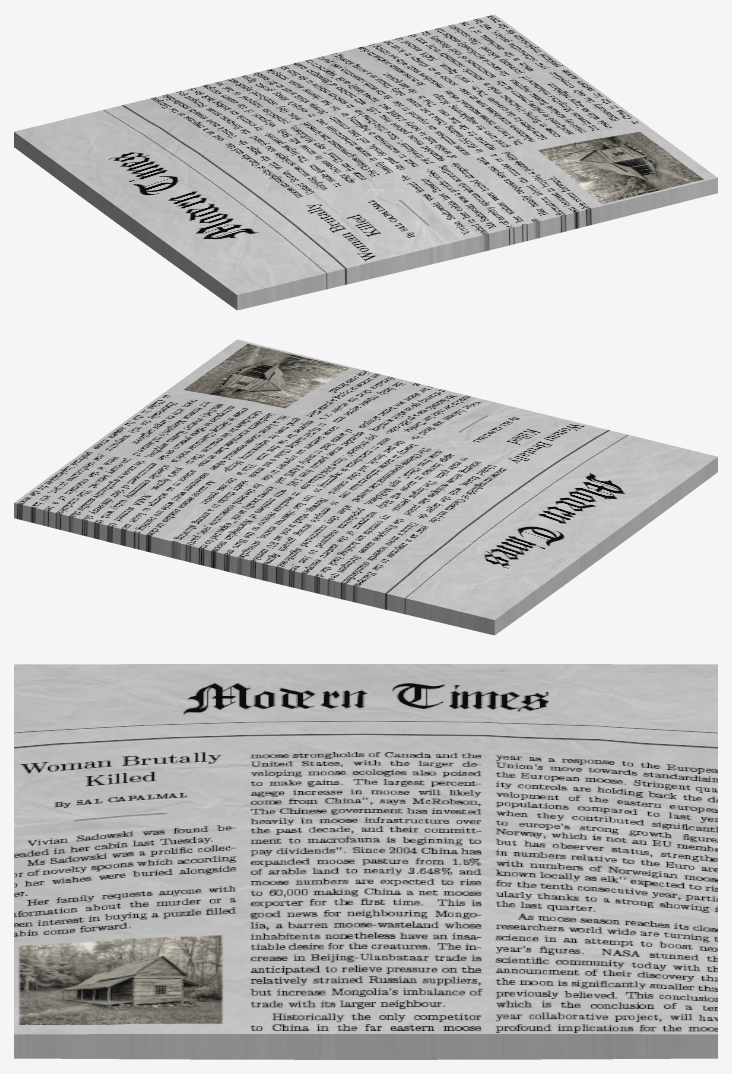
The model's file is newspaper.obj.
3 renders of one model, top to bottom at view 1: azimuth 30°, elevation 25°; view 2: azimuth 150°, elevation 25°; view 3: azimuth 270°, elevation 25°, orthographic. The views are drawn at different scales.
Visible parts, largest first — view 1: pCube1; view 2: pCube1; view 3: pCube1.
Boxes of the visible parts, x1=… form: pCube1: x1=14, y1=14, x2=717, y2=310; pCube1: x1=14, y1=339, x2=717, y2=635; pCube1: x1=14, y1=664, x2=717, y2=1059.
Bounding box in the file's own units: 9.25 × 0.7892 × 7.44.
1 material, 1 textured.
